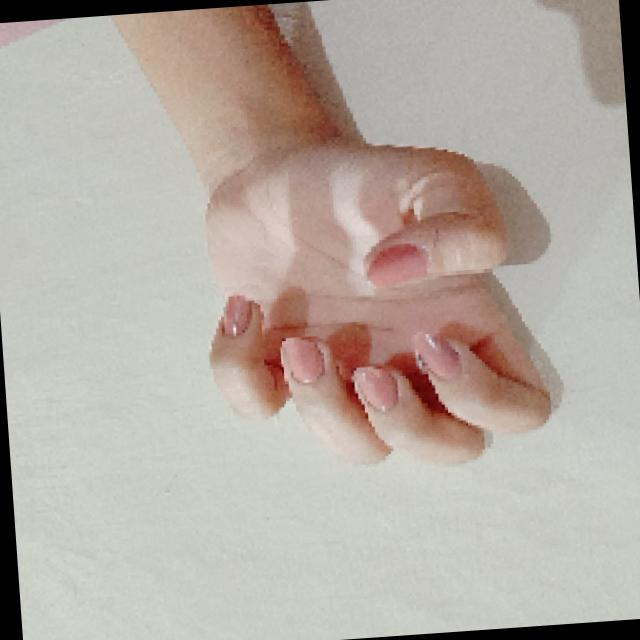Nail: (366, 243, 427, 285), (351, 365, 397, 409), (280, 335, 323, 382), (413, 332, 457, 377), (219, 294, 250, 335)
